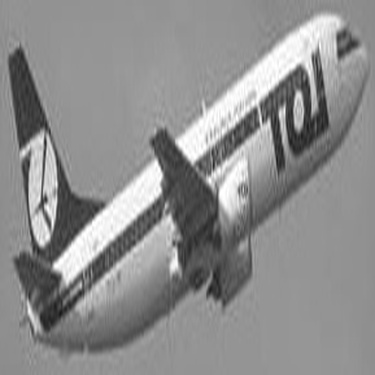airplane: (4, 8, 370, 370)
